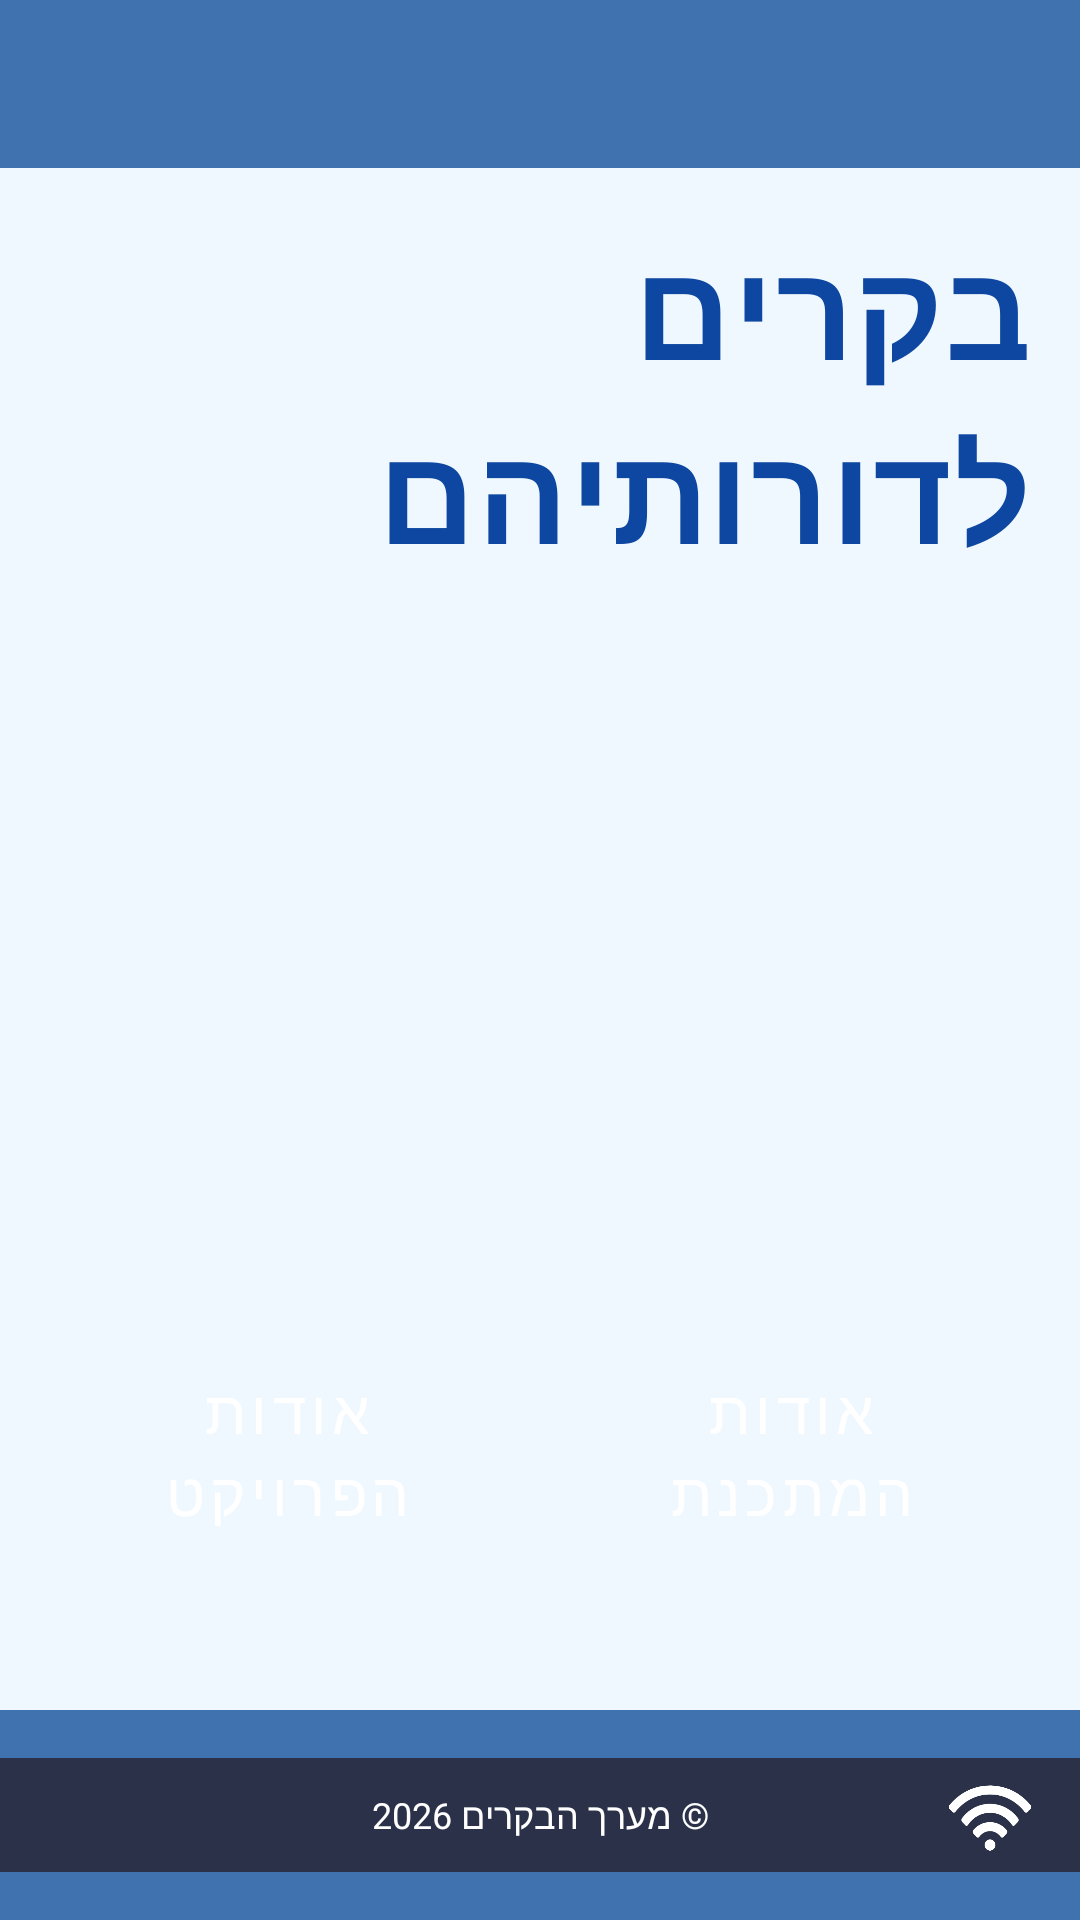

Where icons sit on this 1080 × 1920 app screen, as (x1, y1, x2, y2):
wifi: (949, 1785, 1031, 1851)
